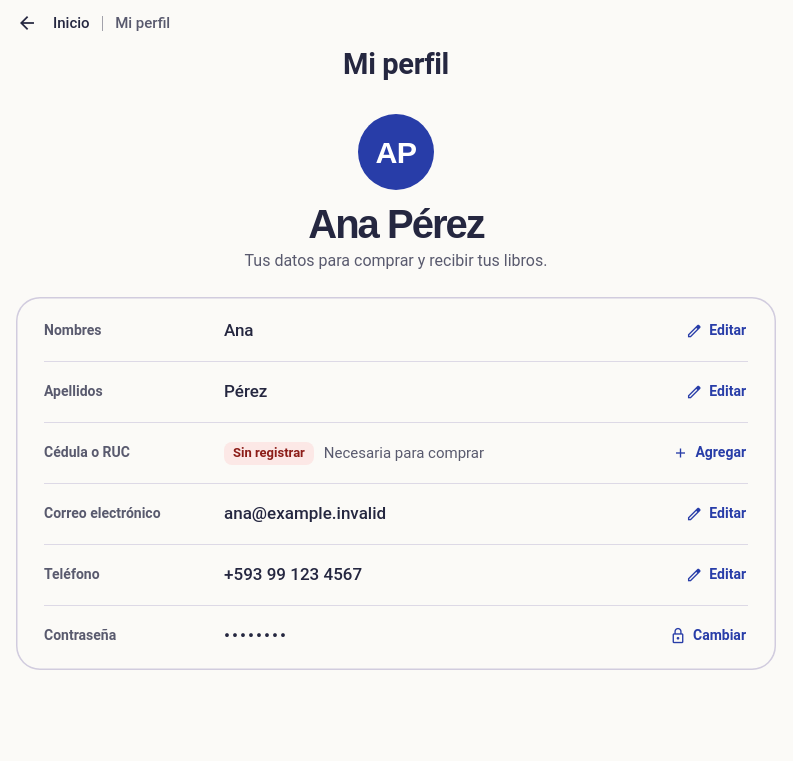
it: keeps email verification help brief and separates it from the unsaved state
Click the button named "Editar correo electrónico" at (717, 514), box [675,492,758,536]
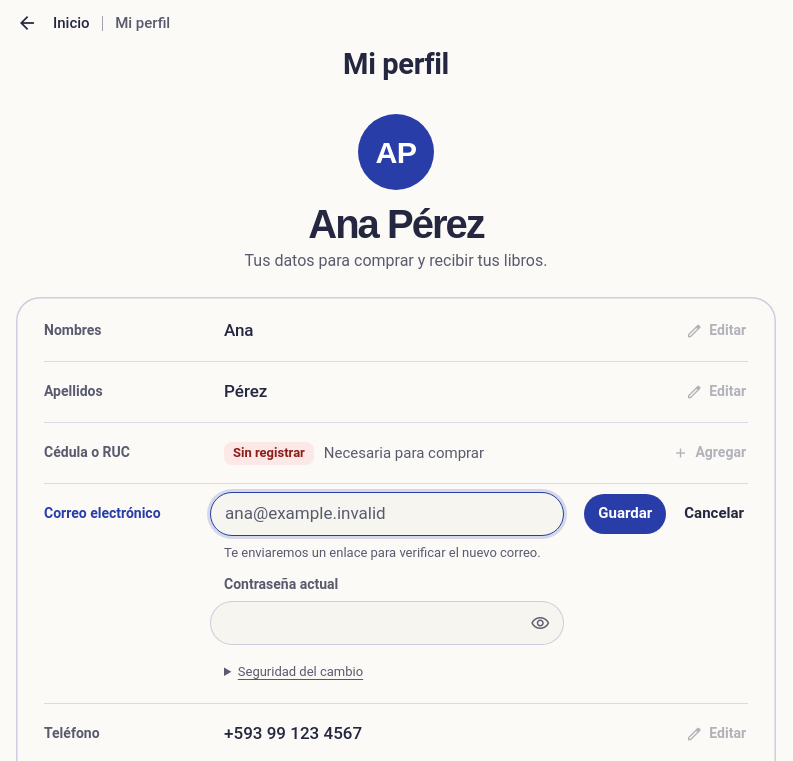
Expected: the text "Cambios sin guardar" is not shown
Expected: the text "Te enviaremos un enlace para verificar el nuevo correo." is shown, [224,544,564,562]
Type "nueva@example.invalid" into the field named "Nuevo correo" at (387, 514), box [210,492,564,536]
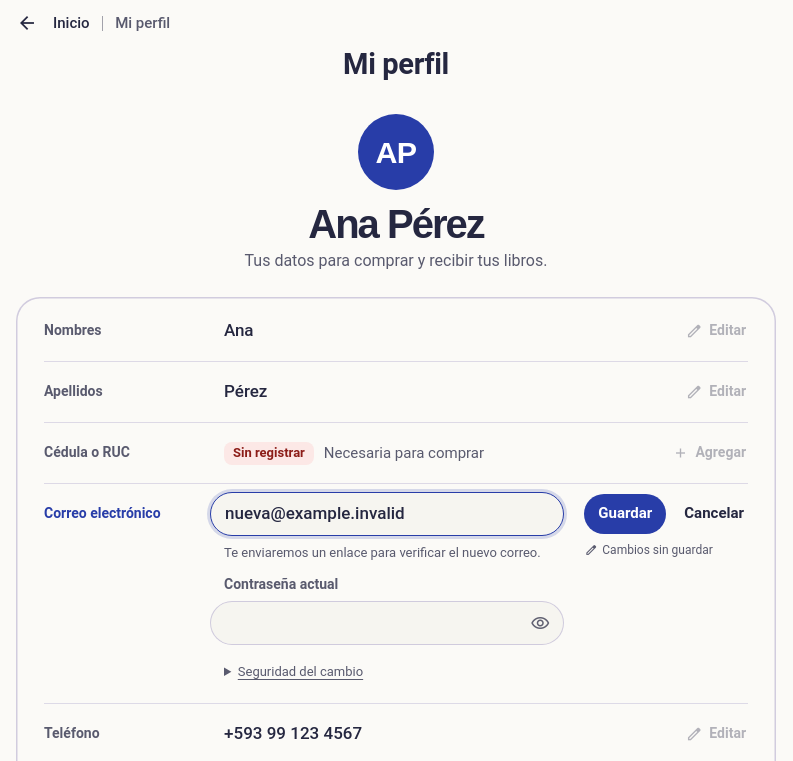
Expected: the text "Cambios sin guardar" is shown once, [584,542,713,558]
Expected: the message reads "Cambios sin guardar", [602,543,713,557]
Click the heading "Seguridad del cambio" at (300, 671), box [238,664,363,679]
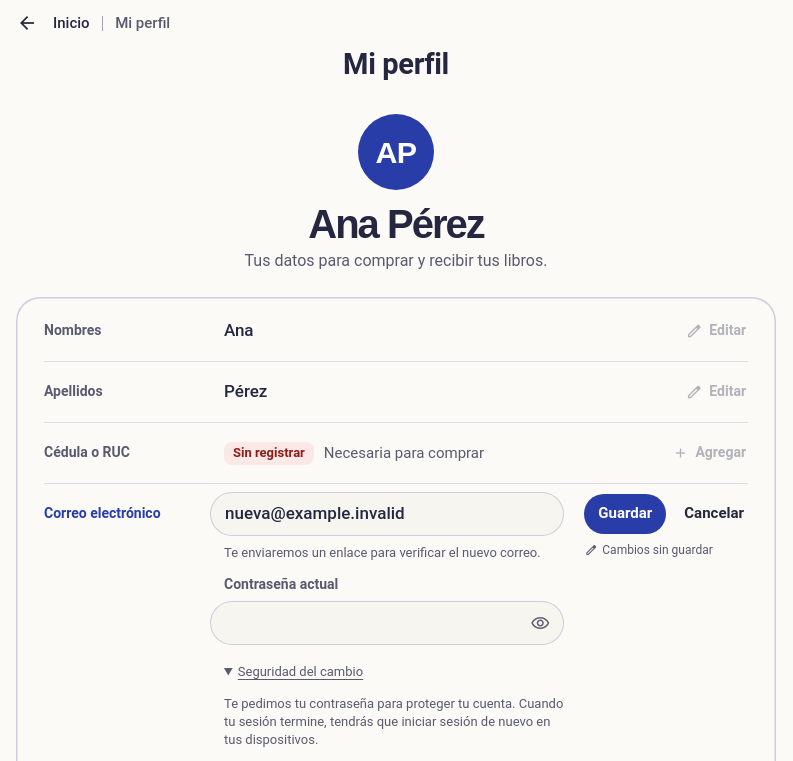
Expected: the text "Cuando tu sesión termine, tendrás que iniciar sesión de nuevo" is shown, [224,696,563,747]
